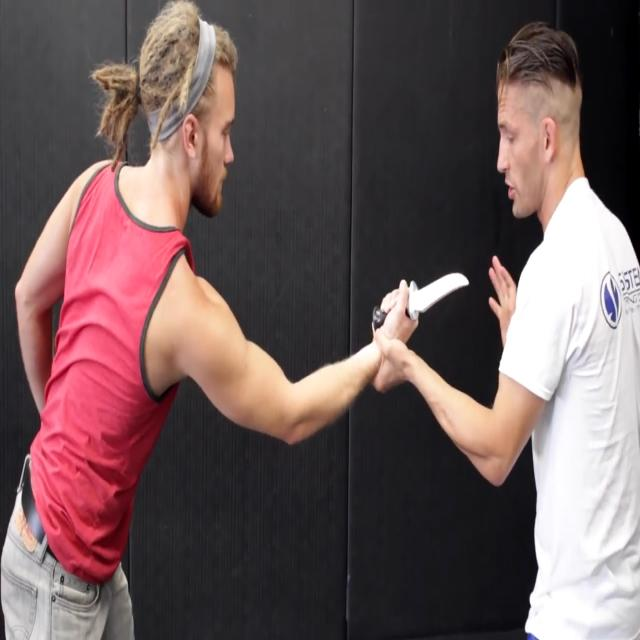knife: (409, 264, 473, 319)
